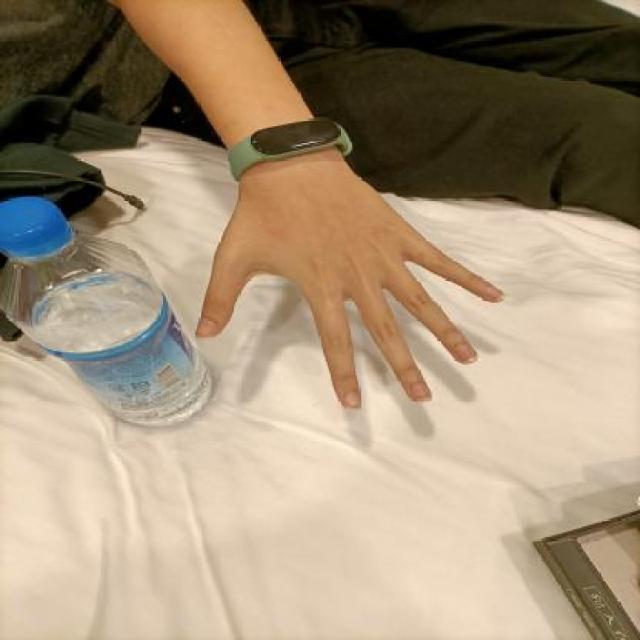bare_hand: (163, 114, 528, 428)
